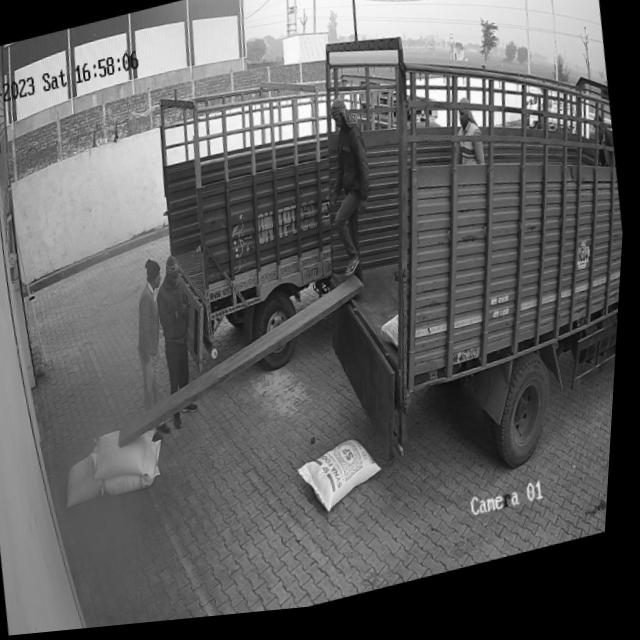sack: (298, 439, 394, 526), (93, 423, 166, 490), (102, 441, 173, 501), (65, 453, 113, 510)
